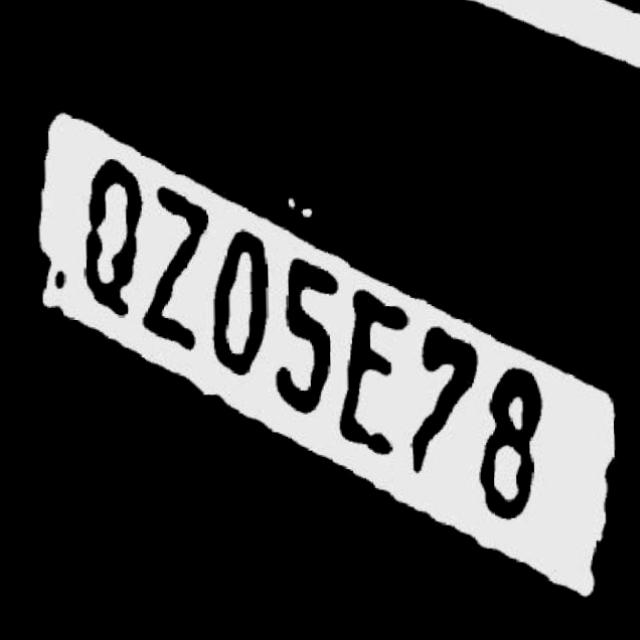5: (279, 234, 346, 463)
7: (404, 298, 477, 492)
8: (478, 343, 539, 532)
e: (341, 274, 405, 498)
o: (208, 211, 278, 405)
q: (79, 148, 143, 342)
z: (139, 165, 211, 384)
